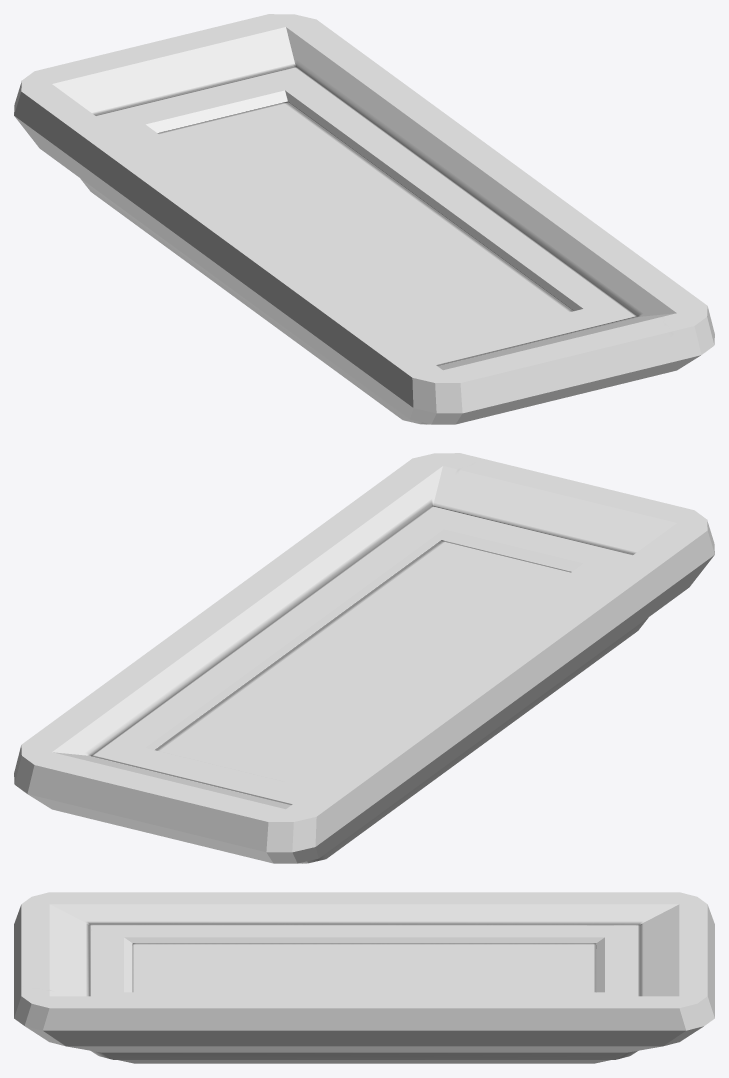
The model's file is Butter_Plate_MDL.fbx.
3 views of the same model, one above another, from view 1: azimuth 30°, elevation 25°; view 2: azimuth 150°, elevation 25°; view 3: azimuth 270°, elevation 25° (orthographic). The views are drawn at different scales.
Visible parts, largest first — view 1: butter_plate; view 2: butter_plate; view 3: butter_plate.
Boxes of the visible parts, x1,y1,x2,y2 form: butter_plate: (14, 14, 714, 424); butter_plate: (14, 453, 714, 863); butter_plate: (14, 892, 714, 1063).
Size of the model in its own units: 12.7 by 4 by 31.75.
